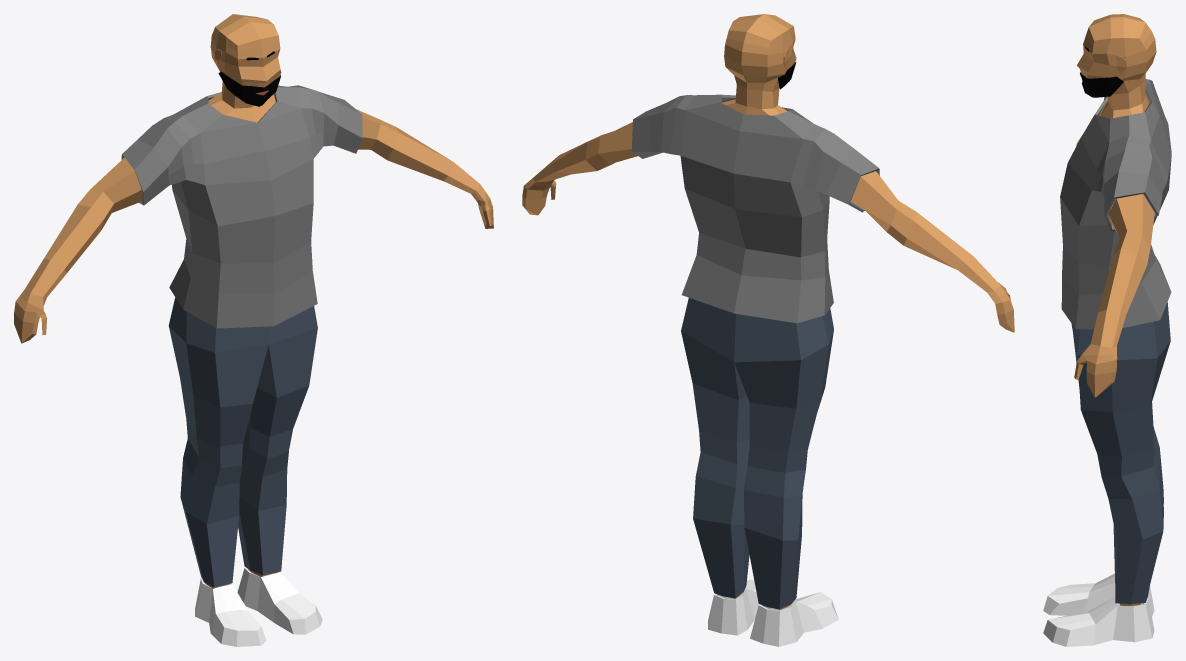
File: Npc6.fbx
3 views of the same model, side by side, from view 1: azimuth 30°, elevation 25°; view 2: azimuth 150°, elevation 25°; view 3: azimuth 270°, elevation 25° (orthographic). The views are drawn at different scales.
Parts seen in each view (by area): view 1: Body.005; view 2: Body.005; view 3: Body.005.
Boxes of the visible parts, x1,y1,x2,y2 form: Body.005: (14, 14, 493, 646); Body.005: (522, 14, 1014, 646); Body.005: (1043, 14, 1171, 646).
Size of the model in its own units: 537 by 646 by 124.
